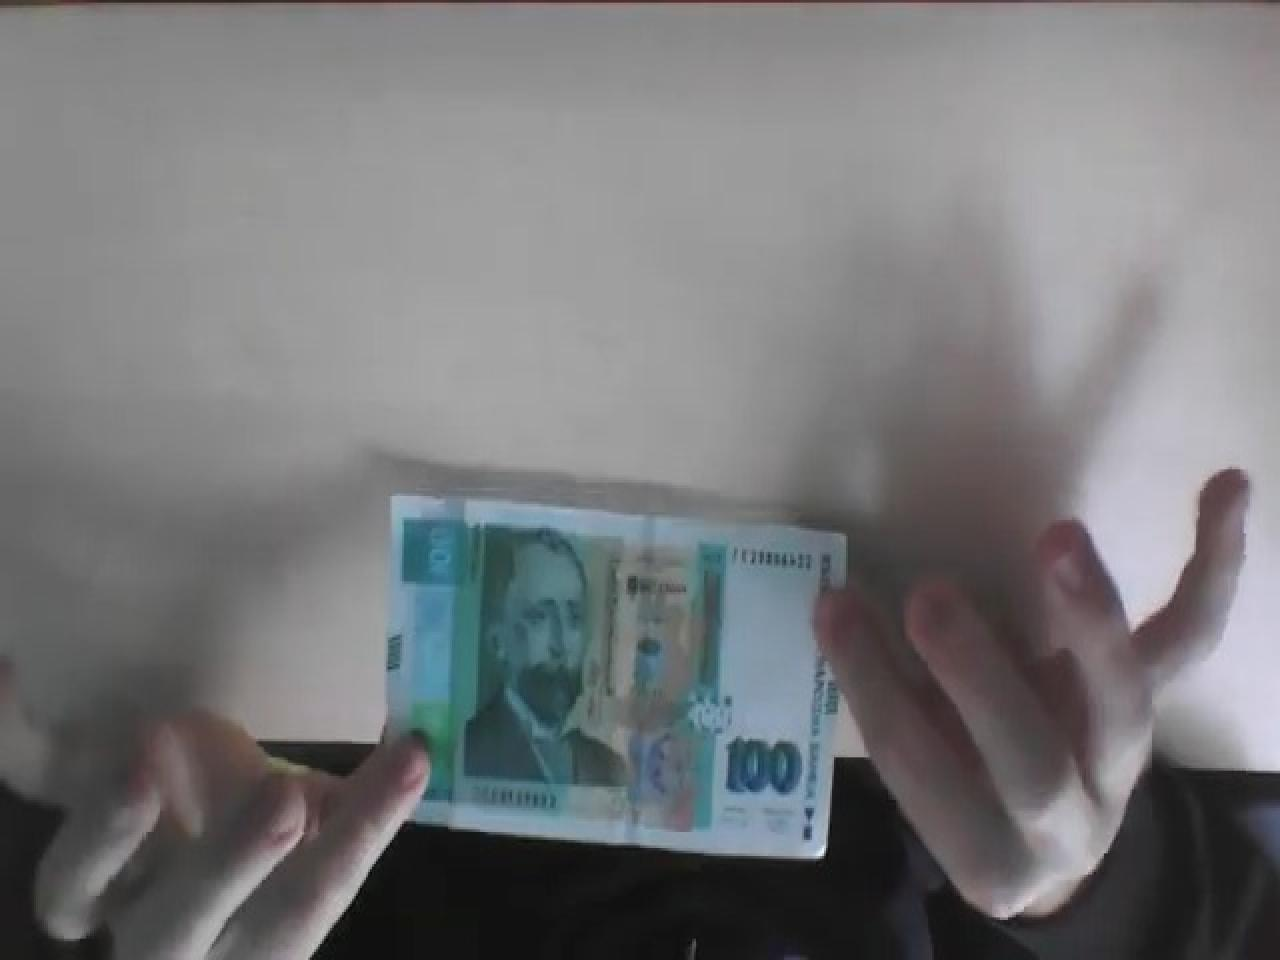100leva: (382, 488, 850, 859)
